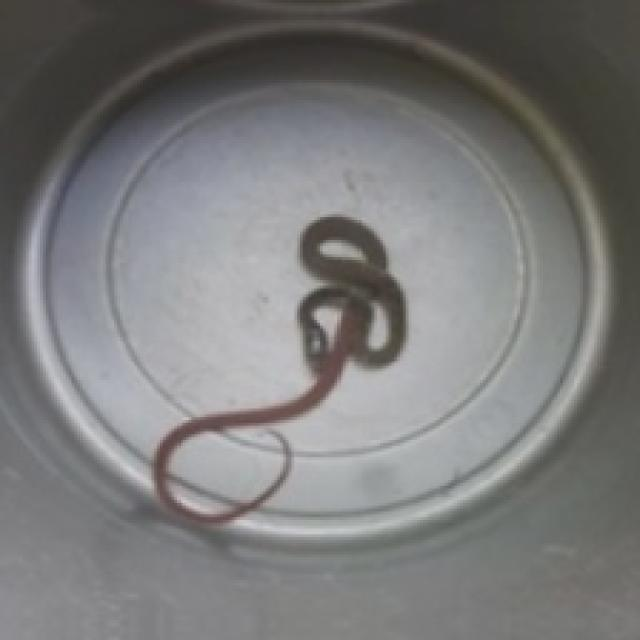reddish rat snake: (154, 217, 403, 523)
